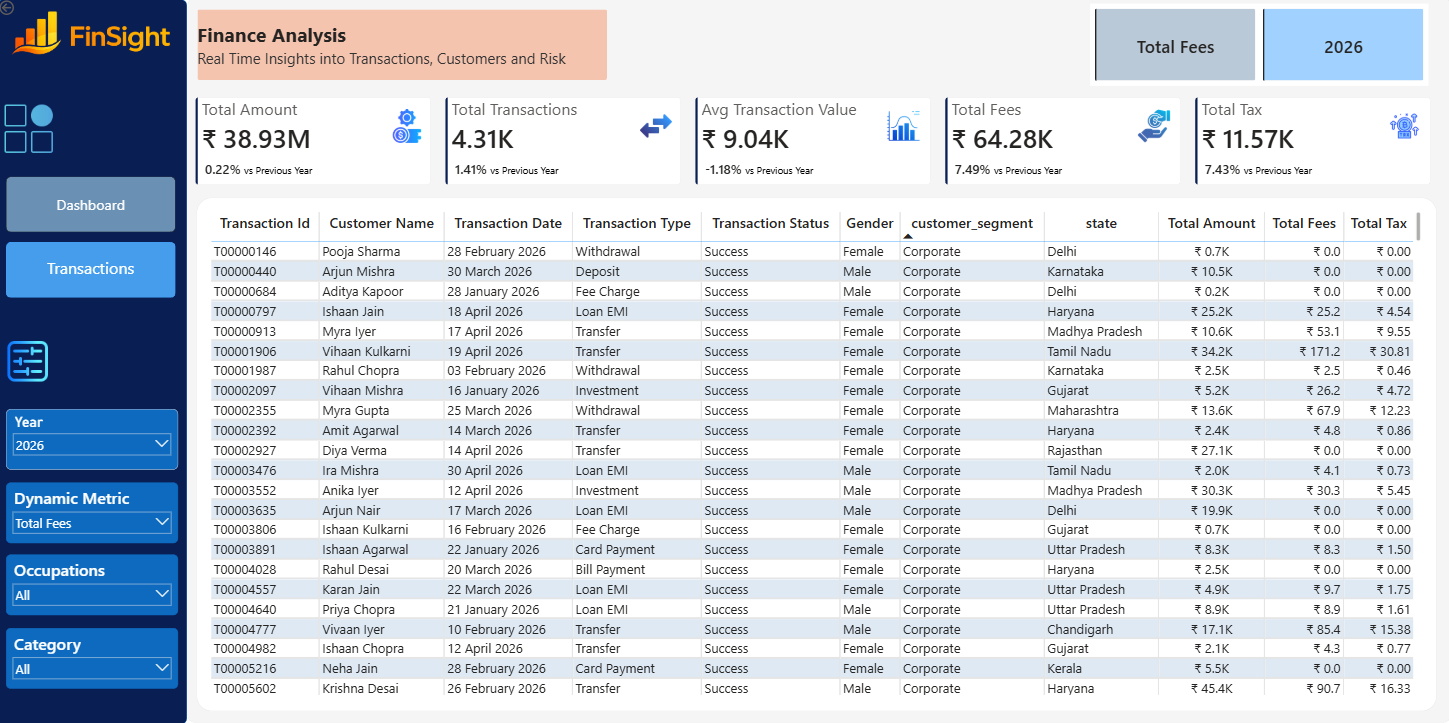

What the dashboard file says about the page in this screenshot:
{"tool":"powerbi","page":{"name":"Transactions","canvas":[3000,1500],"ordinal":1},"visuals":[{"type":"shape","box":[0,3.8,392.3,1496.2],"z":0},{"type":"shape","box":[392.3,0,2607.7,1496.2],"z":1000},{"type":"image","box":[3.3,6.7,390,133.3],"z":2000},{"type":"cardVisual","fields":{"Data":["finance_transactions.dashboard title"]},"box":[395,5,880,180],"z":3000},{"type":"cardVisual","fields":{"Data":["finance_transactions.Total Amount","finance_transactions.Total transaction","finance_transactions.Avg Transaction value","finance_transactions.total fees","finance_transactions.Total Tax"]},"box":[400,195,2570,200],"z":4000},{"type":"image","box":[810,230,70,70],"z":5000},{"type":"image","box":[1325,230,70,70],"z":6000},{"type":"image","box":[1835,230,70,70],"z":7000},{"type":"image","box":[2355,230,70,70],"z":8000},{"type":"image","box":[2870,230,70,70],"z":9000},{"type":"shape","box":[410.7,410.7,2560.7,1060.7],"z":10000},{"type":"cardVisual","fields":{"Data":["finance_transactions.selected dynamic","finance_transactions.Selected Year"]},"box":[2252.4,4.8,709.5,181],"z":11000},{"type":"tableEx","fields":{"Values":["finance_transactions.transaction_id","customers.customer_name","finance_transactions.transaction_date","finance_transactions.transaction_type","finance_transactions.transaction_status","customers.gender","customers.customer_segment","customers.state","finance_transactions.Total Amount","finance_transactions.Total Fees","finance_transactions.Total Tax"]},"box":[435.7,435.7,2507.1,1007.1],"z":12000},{"type":"actionButton","box":[0,0,100,40],"z":13000},{"type":"slicer","fields":{"Values":["dynamic metric.dynamic metric"]},"box":[18,1000,355,125],"z":14000},{"type":"slicer","fields":{"Values":["Calendar.Year"]},"box":[18,850,355,125],"z":15000},{"type":"slicer","fields":{"Values":["customers.occupation"]},"box":[18,1150,355,125],"z":16000},{"type":"slicer","fields":{"Values":["finance_transactions.merchant_category"]},"box":[18,1300,355,125],"z":17000},{"type":"image","box":[15.4,220,100,100],"z":18000},{"type":"image","box":[15,700,96.2,100],"z":19000},{"type":"pageNavigator","box":[20,370,350,250],"z":20000}]}

Visuals, with their boxes in screenshot pixels (x1, y1, x2, y2), scaled from the page's 3000x1500 canvas onto the 1449x723 screenshot:
shape: bbox(0, 2, 189, 722)
shape: bbox(189, 0, 1448, 721)
image: bbox(2, 3, 190, 67)
cardVisual - finance_transactions.dashboard title: bbox(191, 2, 616, 89)
cardVisual - finance_transactions.Total Amount x finance_transactions.Total transaction: bbox(193, 94, 1435, 190)
image: bbox(391, 111, 425, 145)
image: bbox(640, 111, 674, 145)
image: bbox(886, 111, 920, 145)
image: bbox(1137, 111, 1171, 145)
image: bbox(1386, 111, 1420, 145)
shape: bbox(198, 198, 1435, 709)
cardVisual - finance_transactions.selected dynamic x finance_transactions.Selected Year: bbox(1088, 2, 1431, 90)
tableEx - finance_transactions.transaction_id x customers.customer_name: bbox(210, 210, 1421, 695)
actionButton: bbox(0, 0, 48, 19)
slicer - dynamic metric.dynamic metric: bbox(9, 482, 180, 542)
slicer - Calendar.Year: bbox(9, 410, 180, 470)
slicer - customers.occupation: bbox(9, 554, 180, 615)
slicer - finance_transactions.merchant_category: bbox(9, 627, 180, 687)
image: bbox(7, 106, 56, 154)
image: bbox(7, 337, 54, 386)
pageNavigator: bbox(10, 178, 179, 299)
